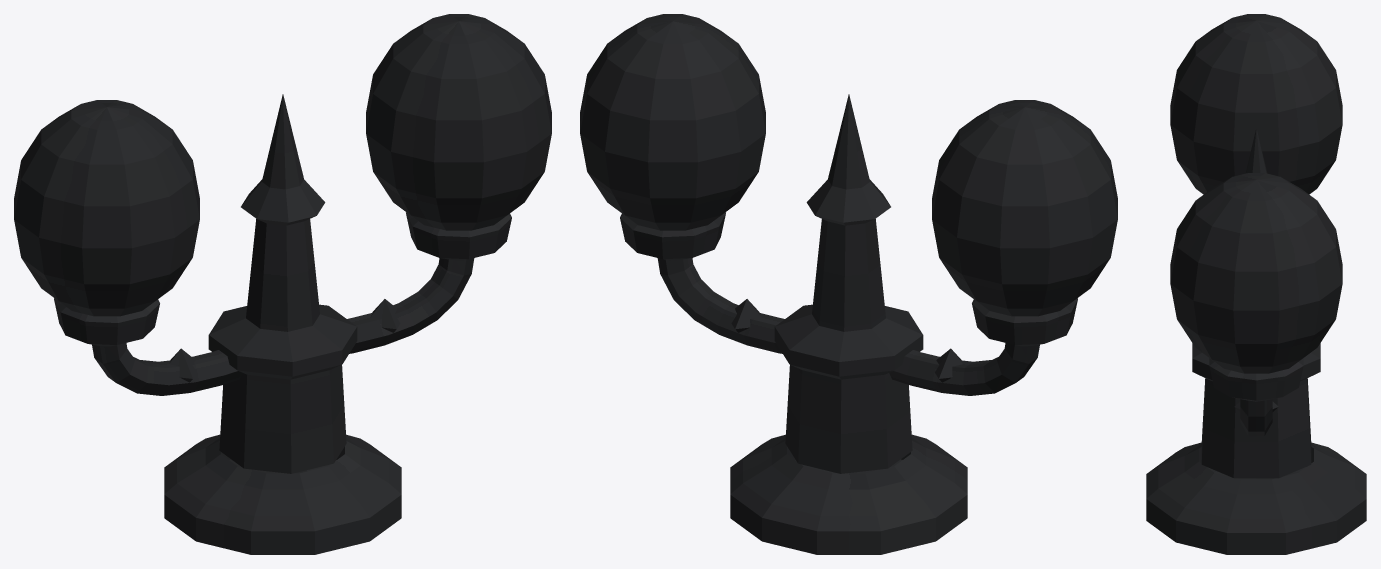
The model's file is decolight_labroadwayrosehead.obj.
The picture shows the model from 3 angles, left to right: view 1: azimuth 30°, elevation 25°; view 2: azimuth 150°, elevation 25°; view 3: azimuth 270°, elevation 25°; orthographic projection. The views are drawn at different scales.
Parts seen in each view (by area): view 1: decolight_labroadwayrosehead; view 2: decolight_labroadwayrosehead; view 3: decolight_labroadwayrosehead.
Boxes of the visible parts, box(x1,y1,x2,y2) form: decolight_labroadwayrosehead: box(14, 14, 551, 554); decolight_labroadwayrosehead: box(580, 14, 1117, 554); decolight_labroadwayrosehead: box(1146, 14, 1366, 554).
Bounding box in the file's own units: 1.38 × 1.14 × 0.5554.
